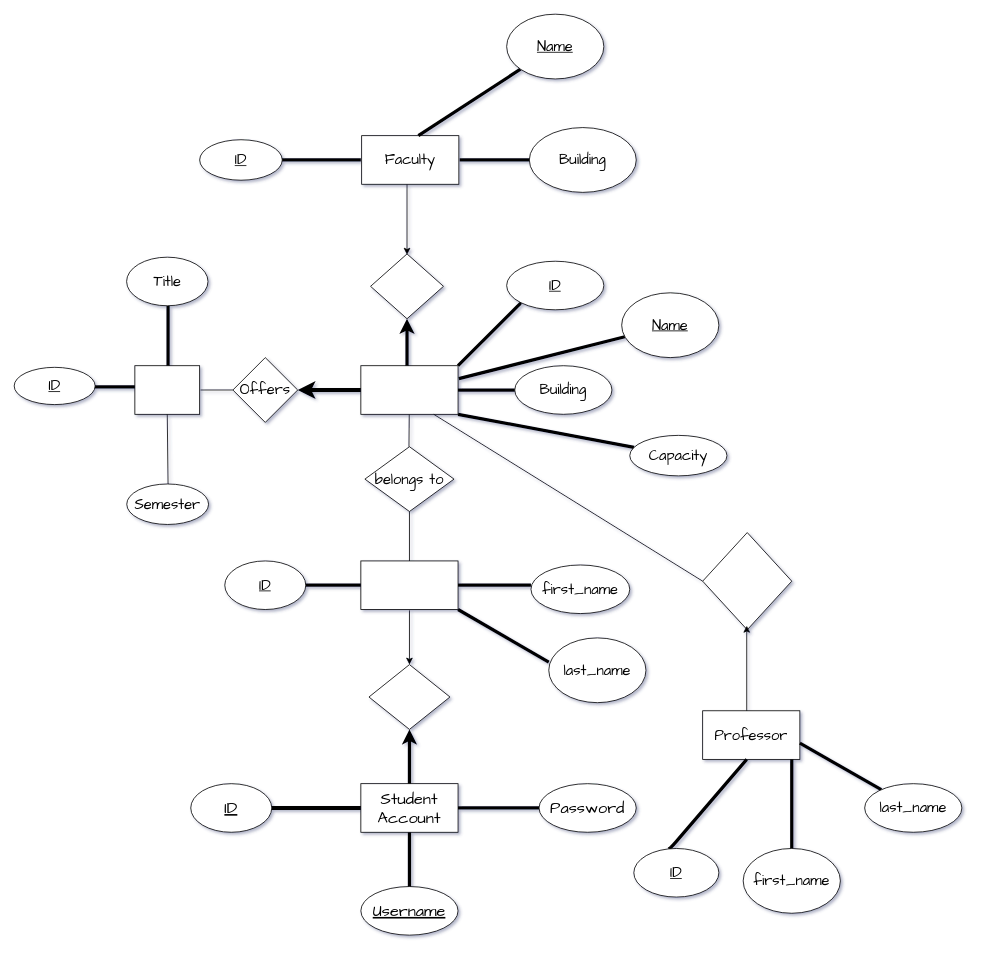
Some shapes in this 981 by 954 pixel diagram are drawn without their labels. The shapes that lost their labels are listed below. From the top down, each one's box as (x1, y1, x2, y2) in pixels, then its label:
(370, 253, 443, 319): Exists in
(134, 365, 200, 414): Course
(360, 365, 458, 414): Department
(360, 560, 458, 610): Student
(702, 532, 792, 630): teaches in
(368, 664, 450, 729): has a
